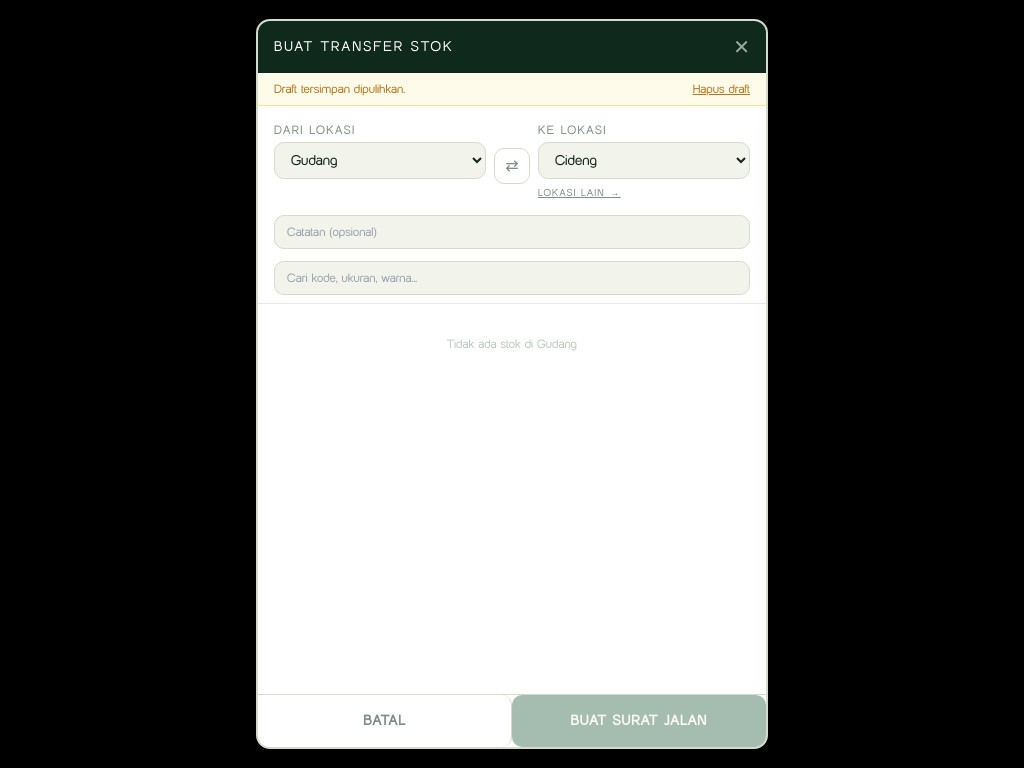
it: TransferForm › Hapus draft memanggil clearDraft dan menyembunyikan banner
The image size is (1024, 768).
Click the button "Hapus draft": (721, 89) x1=693 y1=81 x2=750 y2=97
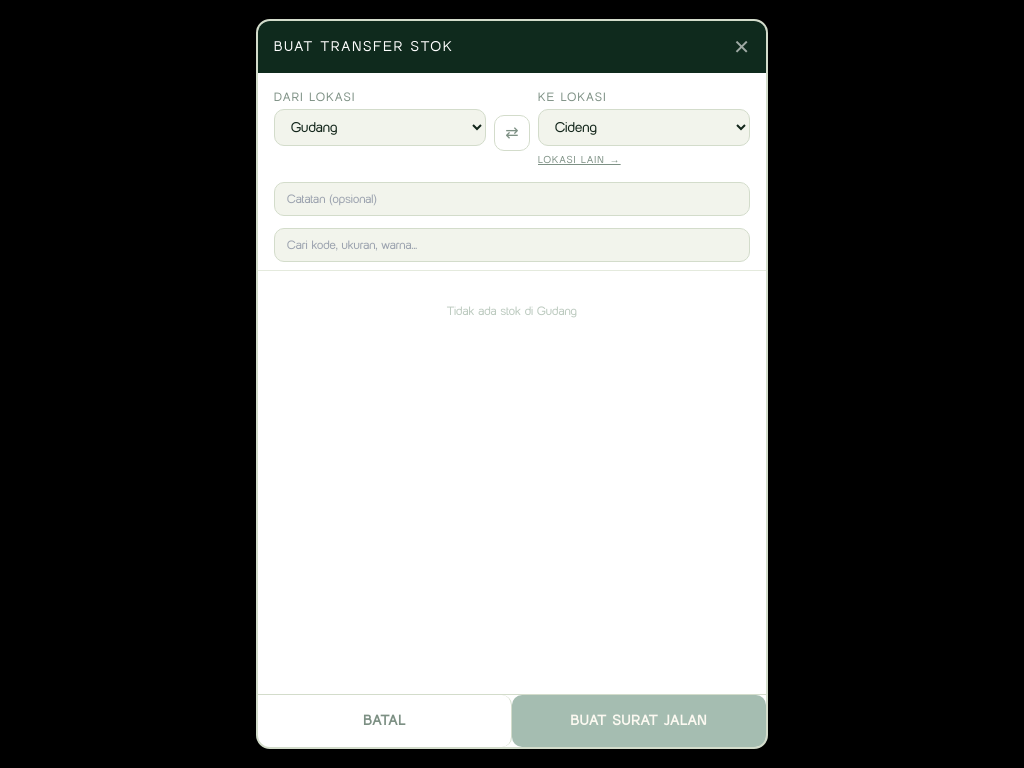
Expected: the text "Draft tersimpan" is gone
